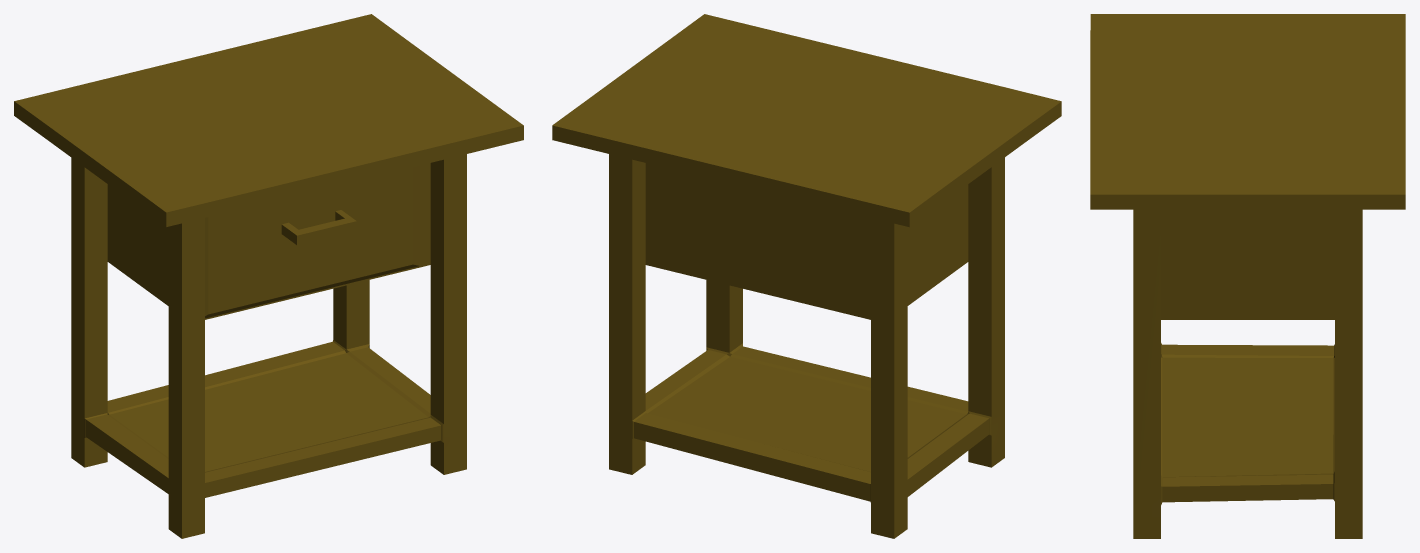
Rendered from Night_Stand.fbx.
3 views of the same model, side by side, from view 1: azimuth 30°, elevation 25°; view 2: azimuth 150°, elevation 25°; view 3: azimuth 270°, elevation 25° (orthographic). The views are drawn at different scales.
Visible parts, largest first — view 1: polySurface2, polySurface1; view 2: polySurface2; view 3: polySurface2.
Boxes of the visible parts, left/top/right/bottom form: polySurface2: left=14, top=14, right=523, bottom=538; polySurface1: left=205, top=165, right=419, bottom=318; polySurface2: left=552, top=14, right=1061, bottom=538; polySurface2: left=1090, top=14, right=1405, bottom=538.
Bounding box in the file's own units: 3.85 × 3.6 × 2.84.
